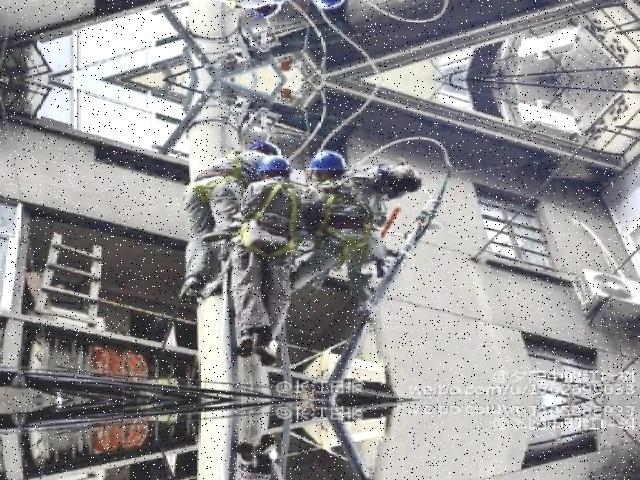Helmet: (301, 146, 350, 178), (250, 152, 295, 178)
